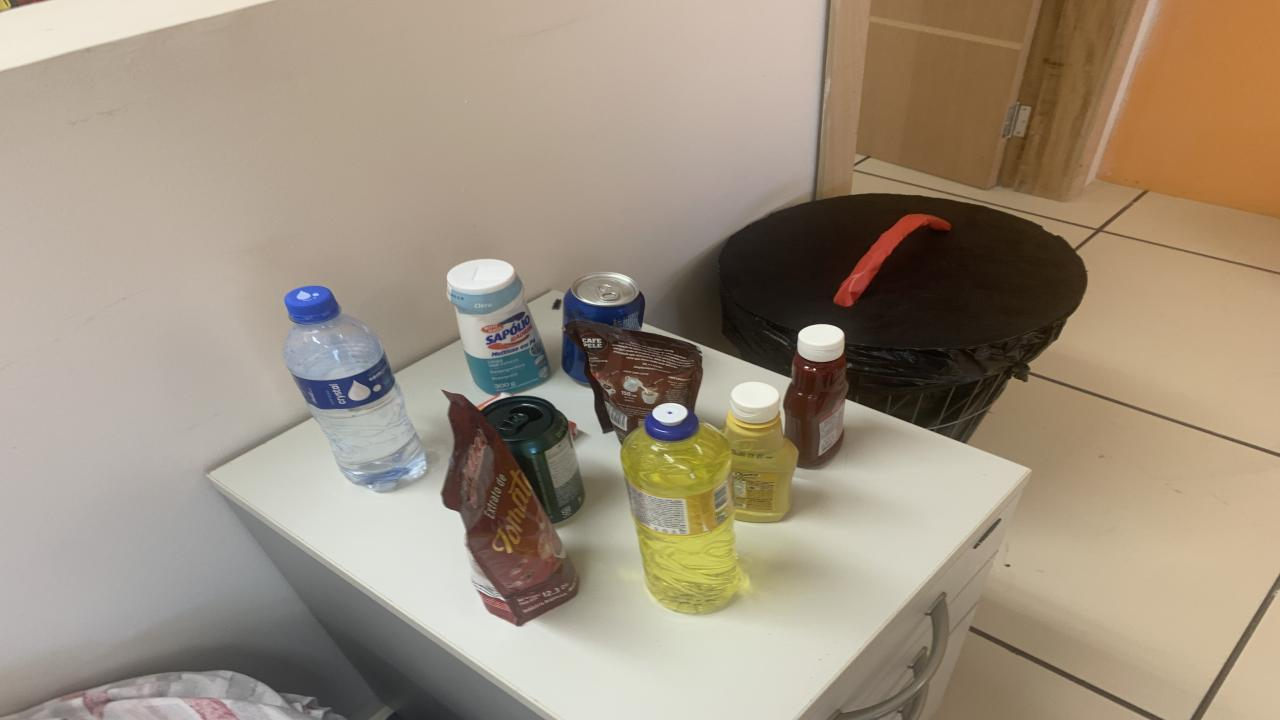Cleaner-Cleanup_Items: (448, 259, 550, 394)
Coffee-Pantry_Items: (565, 321, 702, 442)
Detergent-Cleanup_Items: (620, 403, 740, 613)
Guarana_Can-Drinks: (482, 396, 585, 523)
Ketchup-Pantry_Items: (782, 324, 848, 469)
Mustard-Pantry_Items: (725, 382, 798, 523)
Tomato_Sauce-Pantry_Items: (442, 392, 578, 624)
Tonic-Drinks: (562, 272, 645, 330), (562, 338, 588, 384)
Water_Bottle-Drinks: (282, 287, 425, 491)
